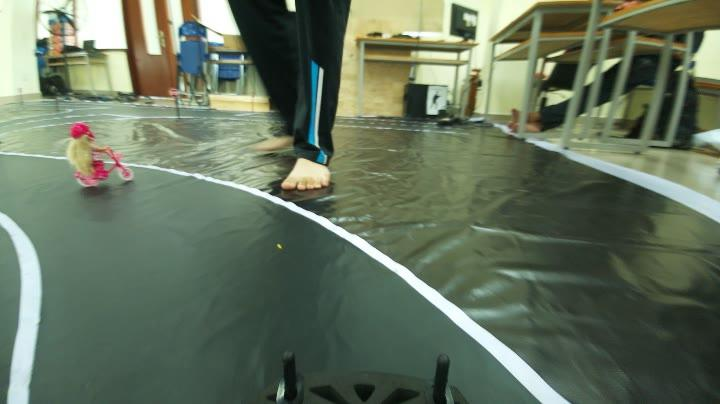pedestrian: (45, 122, 147, 202)
